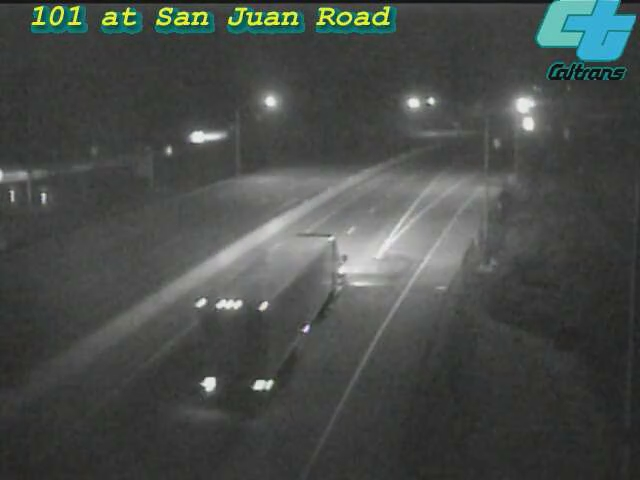vehicle: (177, 301, 287, 411), (506, 99, 556, 149), (497, 81, 547, 131)
